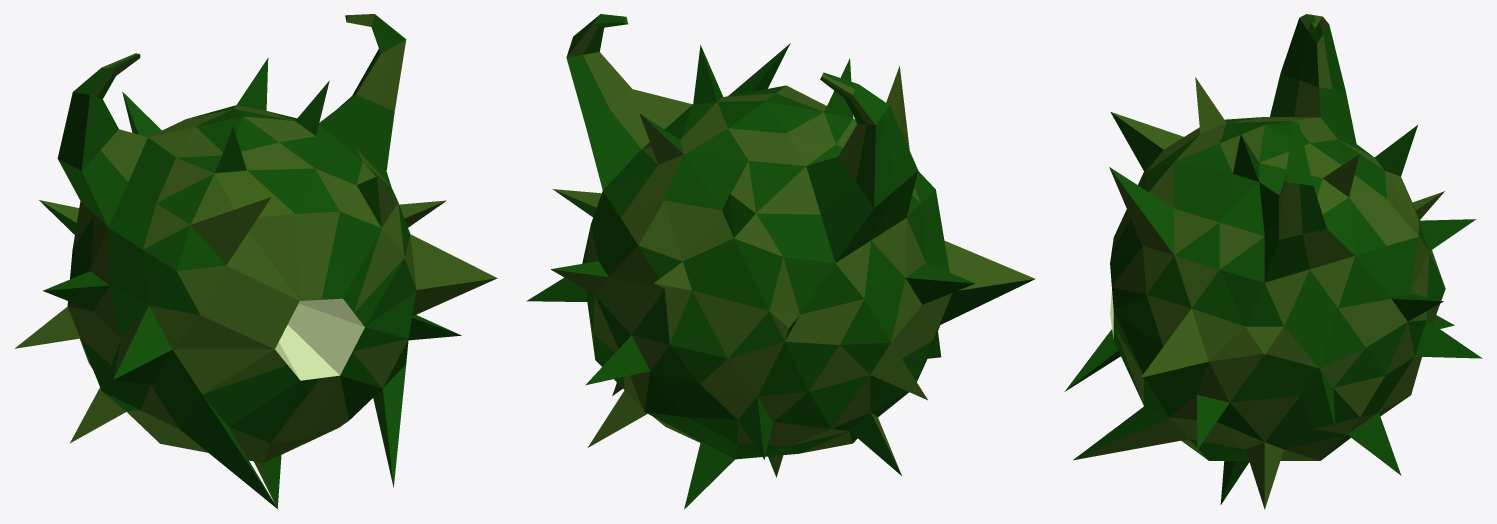
File: cacodemonType.glb
3 views of the same model, side by side, from view 1: azimuth 30°, elevation 25°; view 2: azimuth 150°, elevation 25°; view 3: azimuth 270°, elevation 25° (orthographic). The views are drawn at different scales.
Parts seen in each view (by area): view 1: Cube; view 2: Cube; view 3: Cube.
Part boxes in pixels (<box>): Cube: <box>15,14,497,508</box>; Cube: <box>526,14,1035,509</box>; Cube: <box>1064,14,1482,509</box>.
Size of the model in its own units: 12.12 by 12.69 by 10.99.
1 material, 1 textured.
